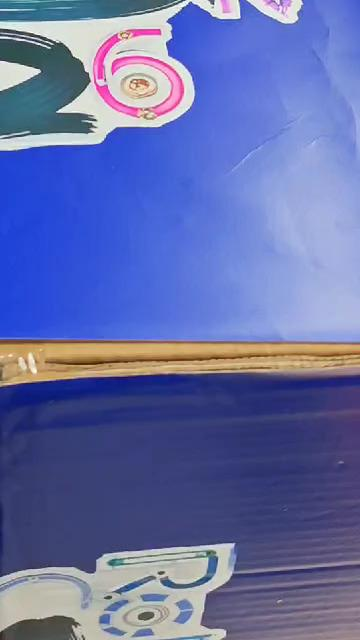B_R1: (0, 0, 338, 157)
